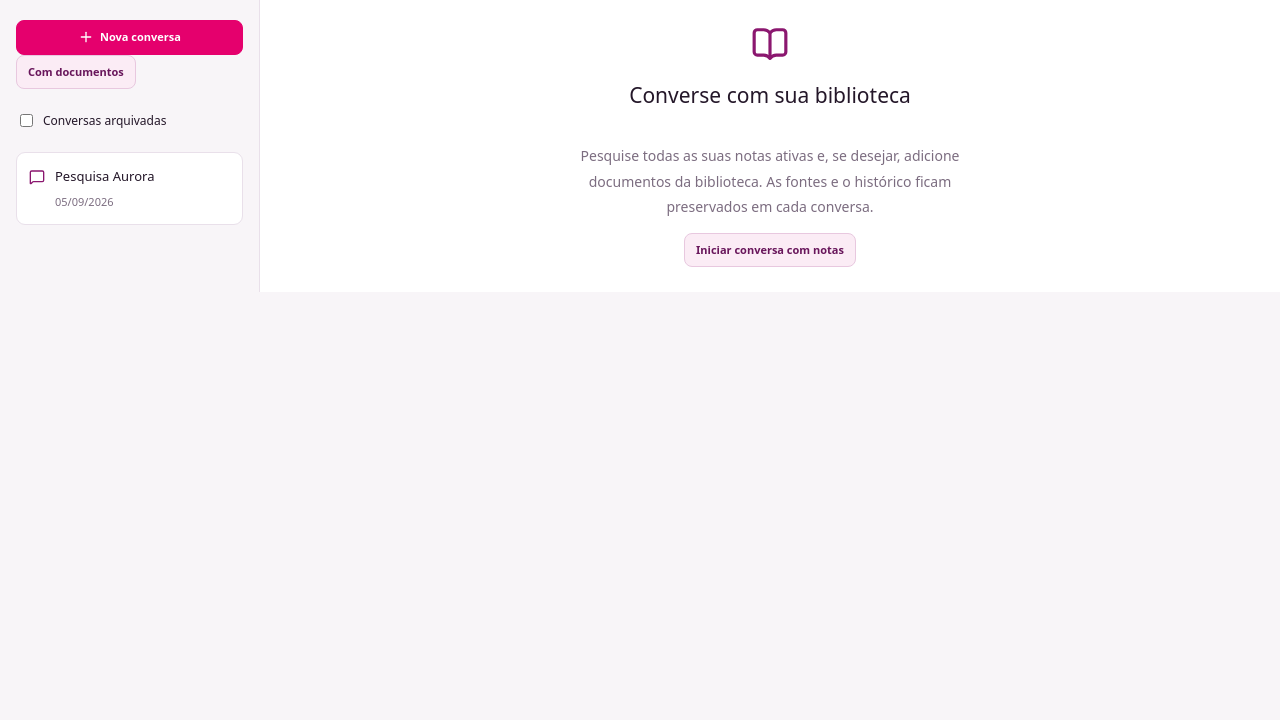
Scenario: conversational research UI › subscribes to saved running messages, shows verified citations and opens the preserved source
Later steps or results of the test are not shown.
Click the button "Pesquisa Aurora 05/09/2026" at (130, 188), box [16, 152, 243, 225]
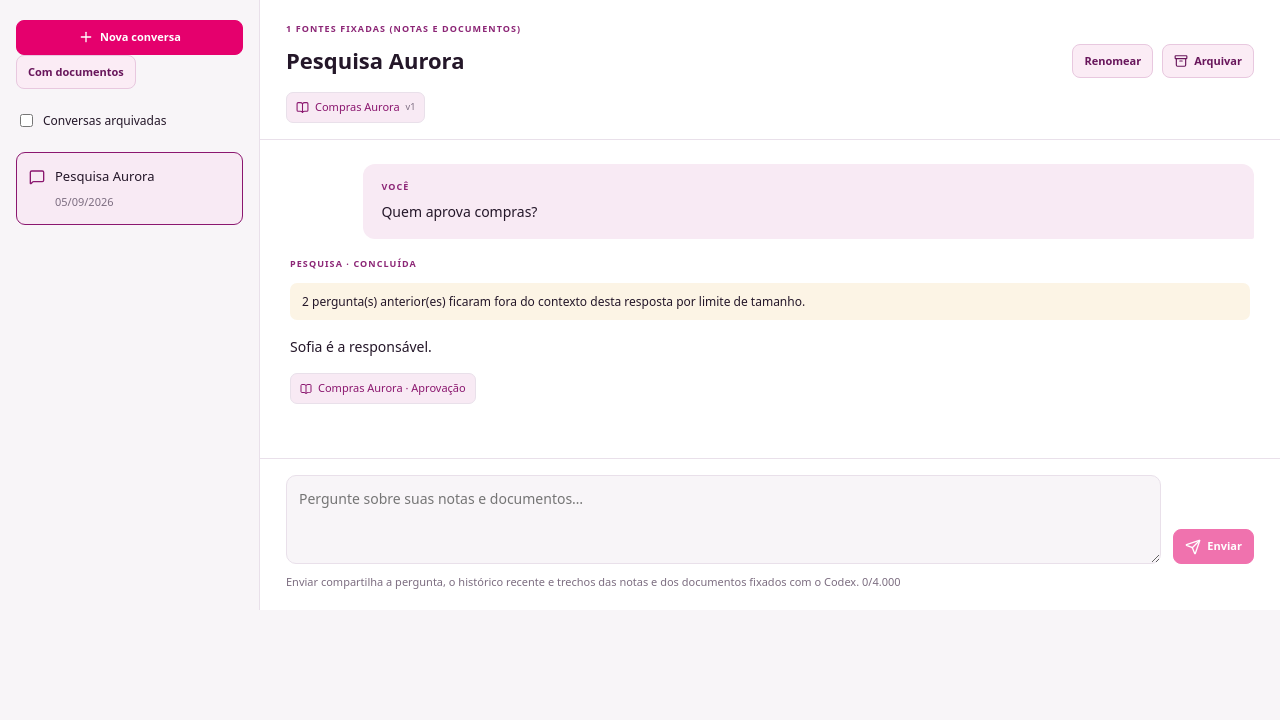
Now the text "Sofia é a responsável." is shown, box [290, 337, 432, 356]
Now the text "2 pergunta(s) anterior" is shown, box [290, 283, 1250, 320]
Click the button "Compras Aurora · Aprovação" at (383, 389), box [290, 373, 476, 404]
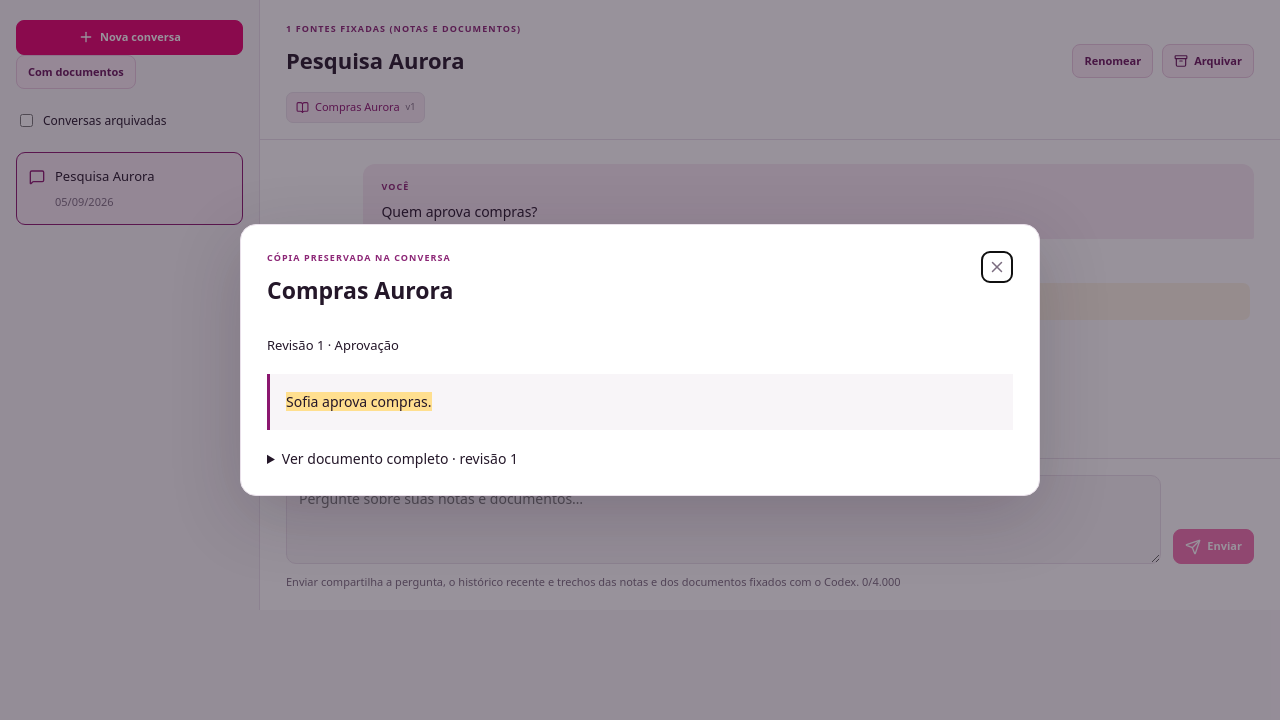
Now the text "Cópia preservada na conversa" is shown, box [267, 251, 453, 264]
Now the text "Sofia aprova compras." is shown, box [286, 392, 432, 411]
